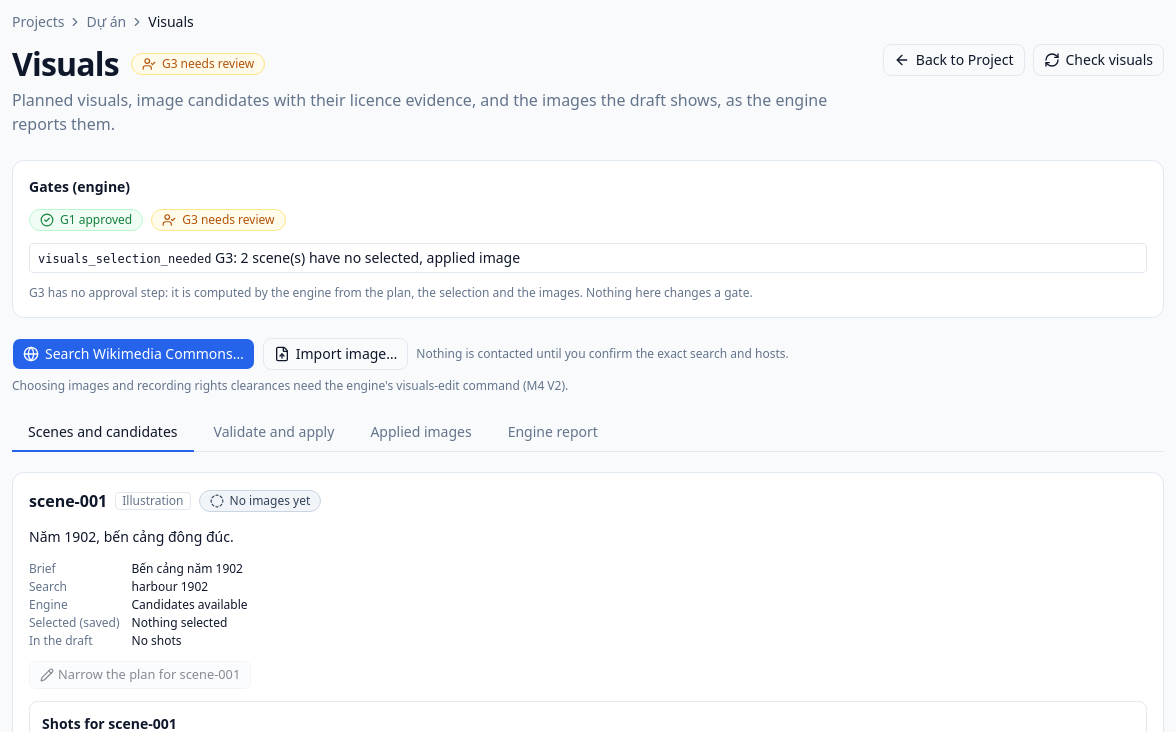
Test case: visuals workspace › shows each applied image's facts, including an ambiguous binding
The image size is (1176, 732).
Click the tab "Applied images".
click(421, 433)  # box [354,414,488,452]
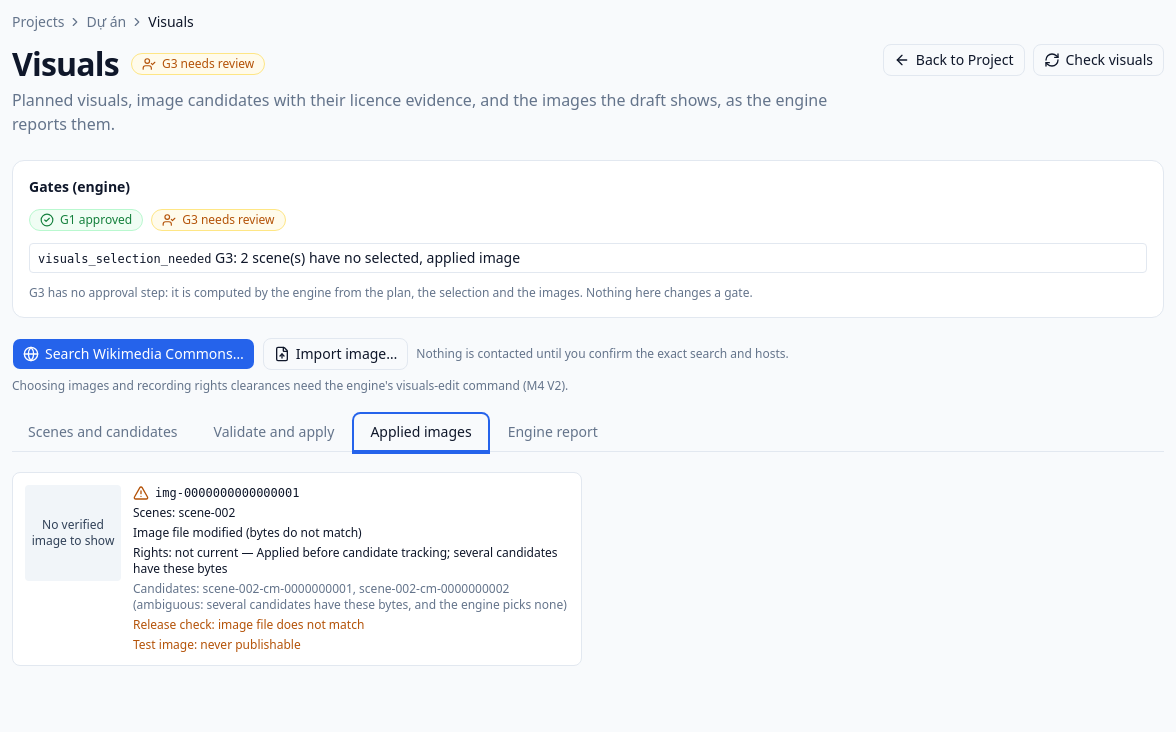
Now the text "Image file modified (bytes do not match)" is shown, box [133,524,362,541]
Now the text "several candidates have these bytes, and the engine picks none" is shown, box [137,596,563,613]
Now the text "not current — Applied before candidate tracking" is shown, box [133,544,558,577]
